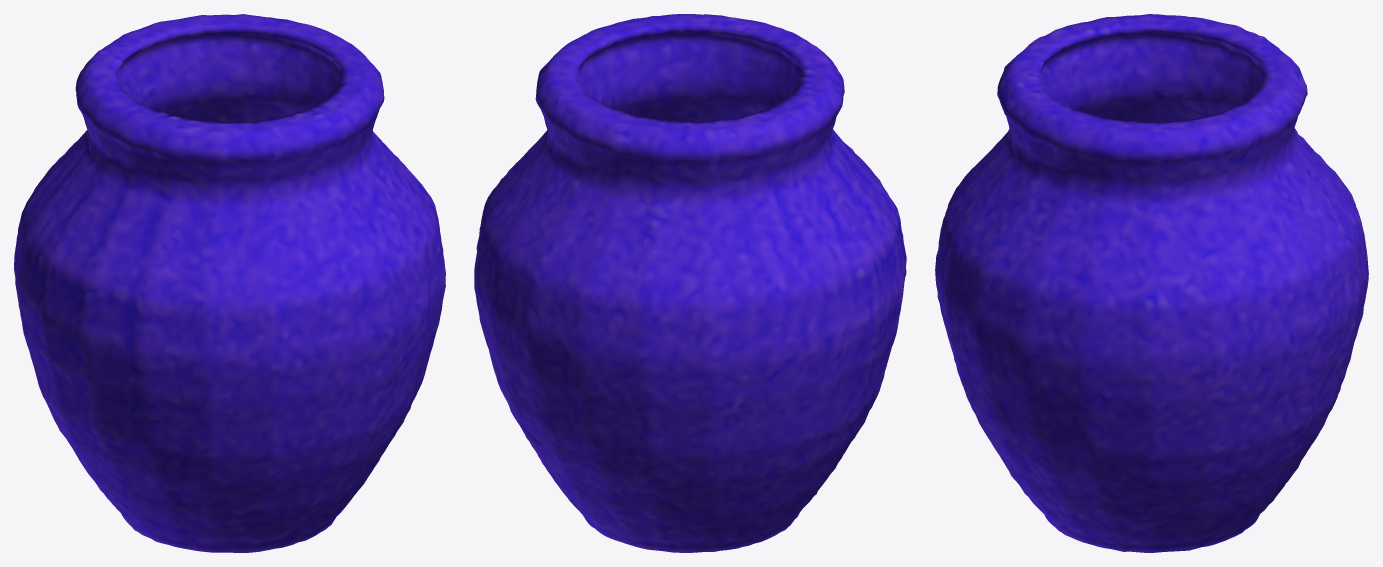
The model's file is vase_100_iters.obj.
The picture shows the model from 3 angles, left to right: view 1: azimuth 30°, elevation 25°; view 2: azimuth 150°, elevation 25°; view 3: azimuth 270°, elevation 25°; orthographic projection.
Size of the model in its own units: 1.57 by 1.74 by 1.57.
